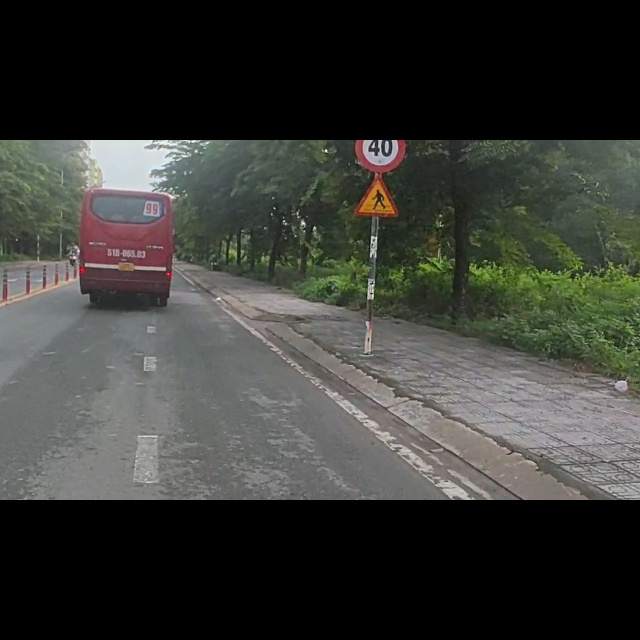bien_nguy_hiem: (356, 60, 402, 139), (357, 2, 409, 60)
